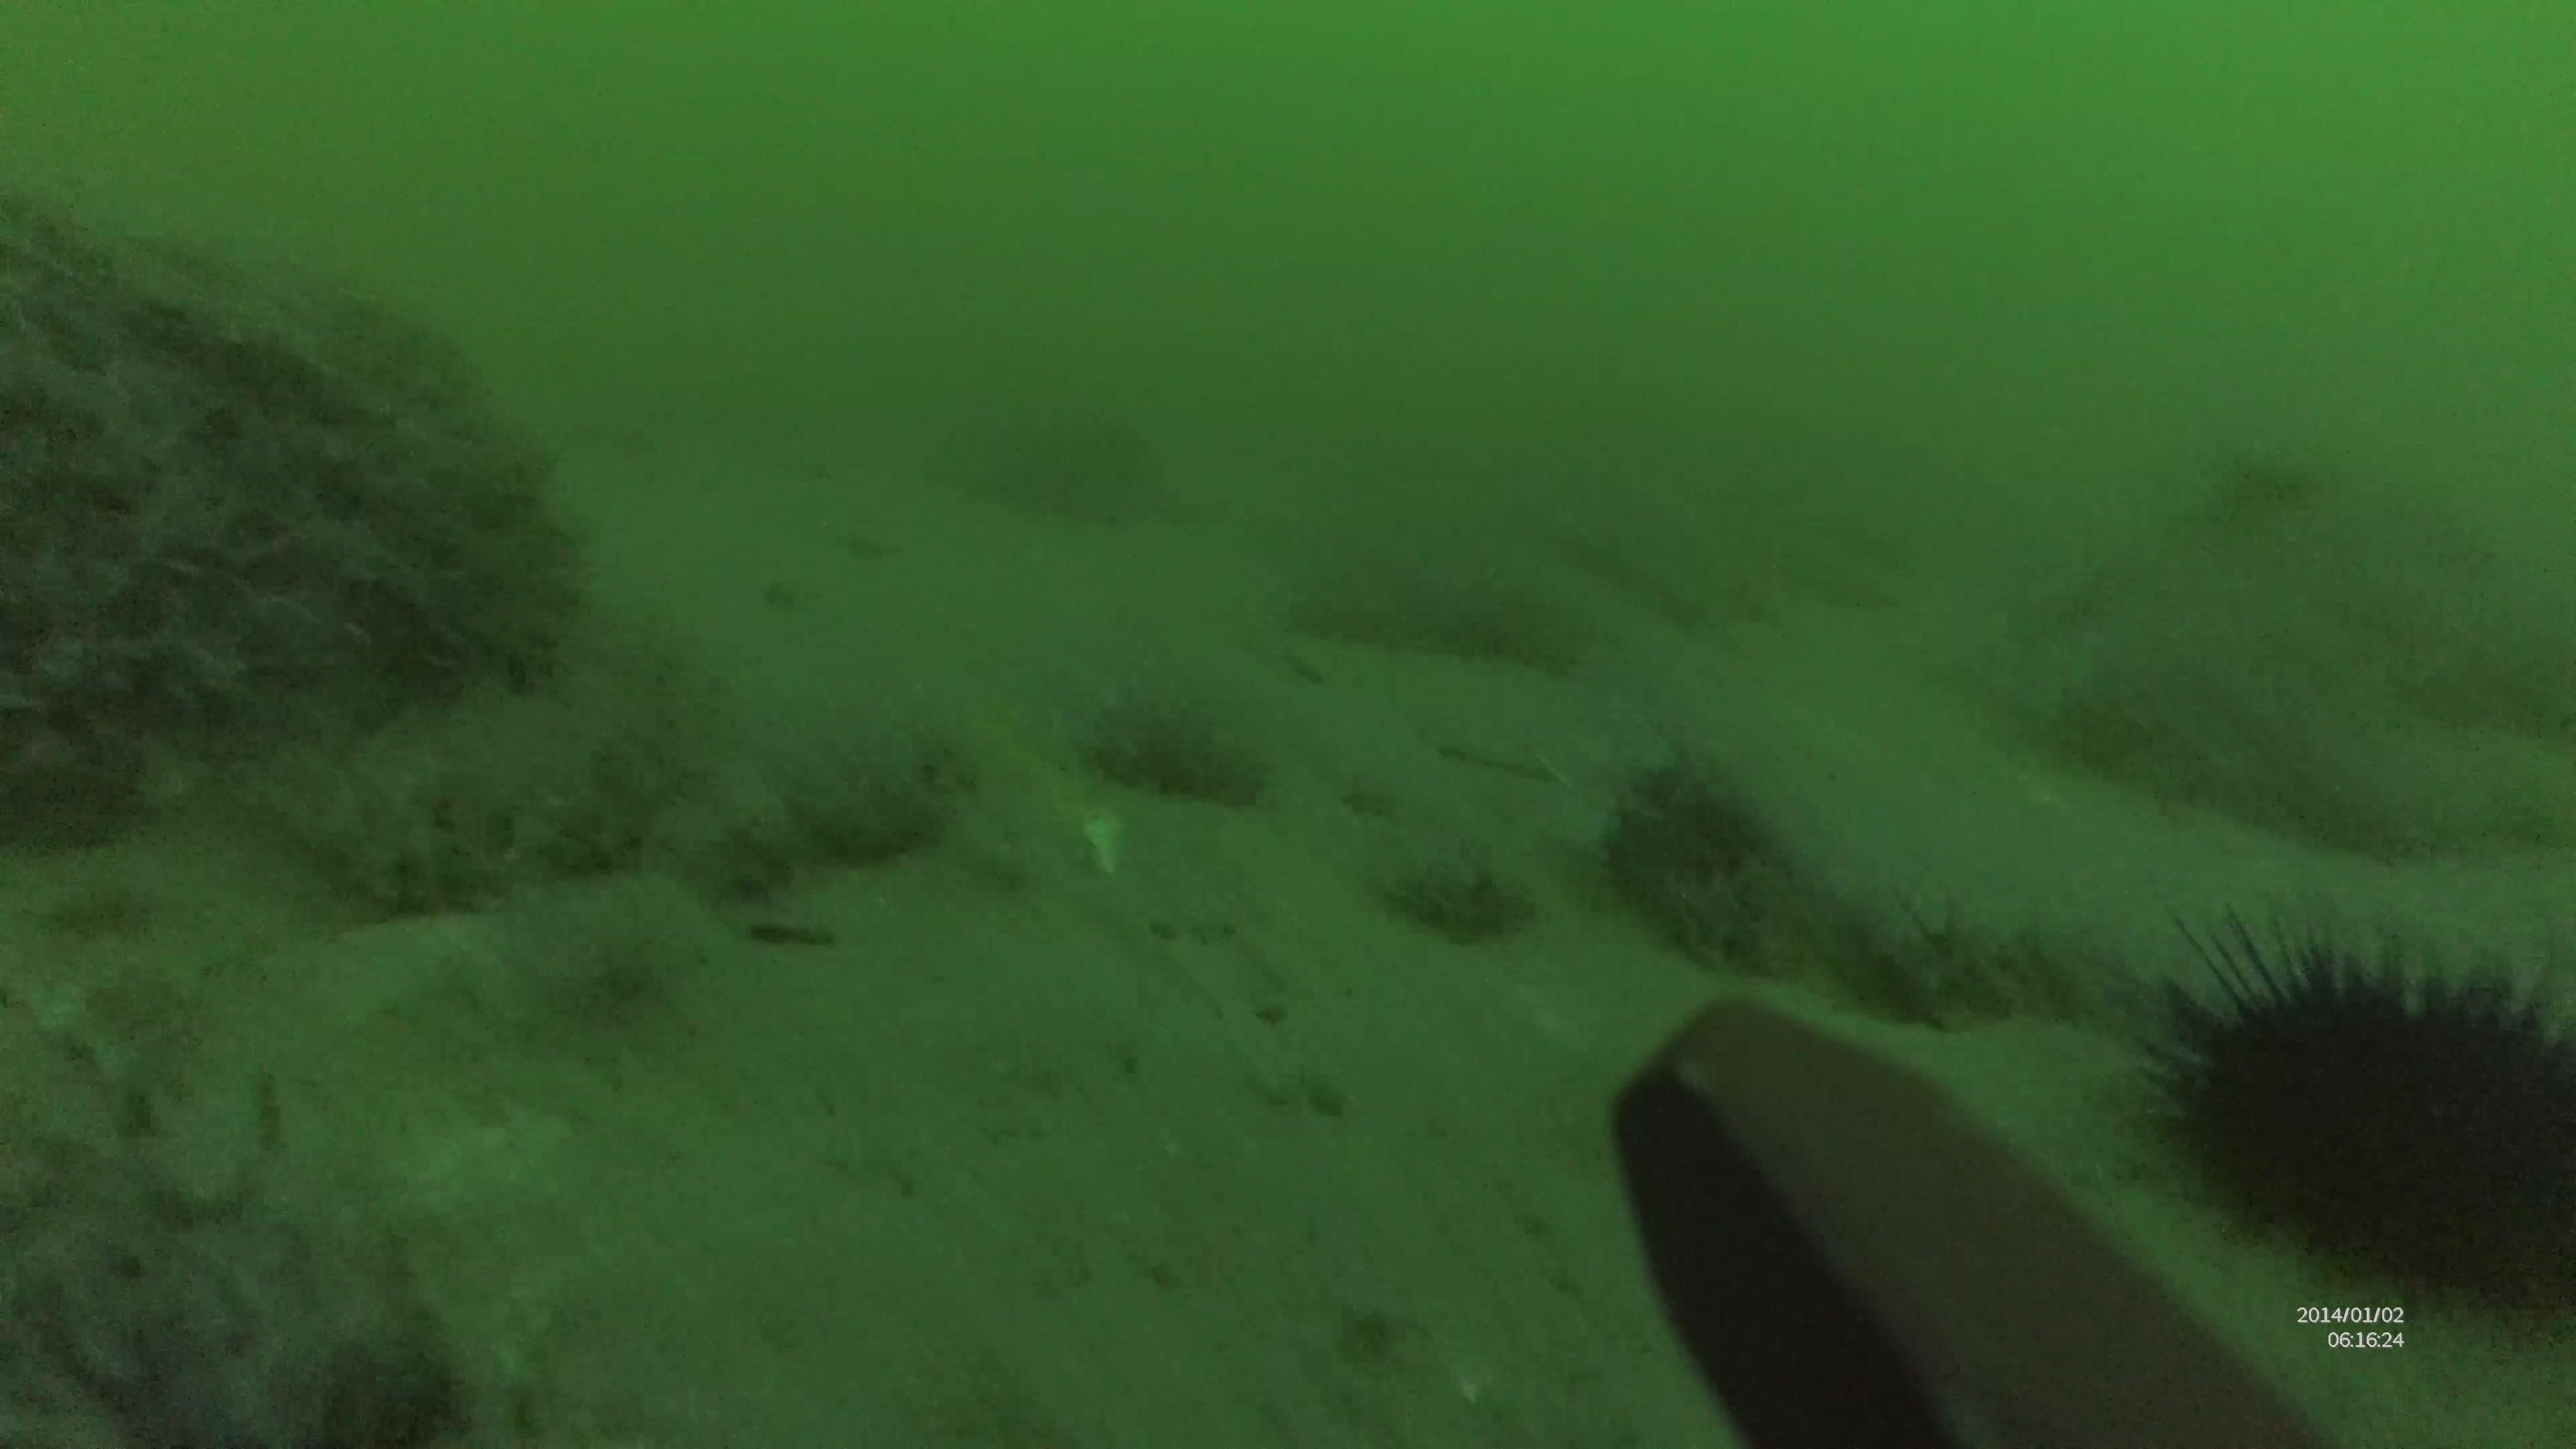echinus: (2128, 893, 2576, 1332)
